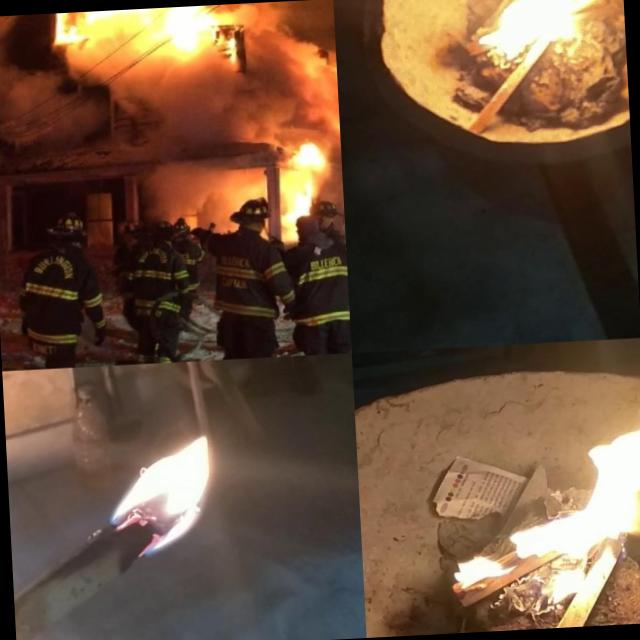fire: (442, 369, 640, 615), (61, 400, 241, 577), (460, 0, 581, 67), (274, 132, 332, 214), (118, 5, 182, 66), (38, 12, 88, 42)
smoke: (115, 57, 268, 207), (258, 30, 340, 135), (0, 14, 46, 163), (210, 0, 310, 36)
